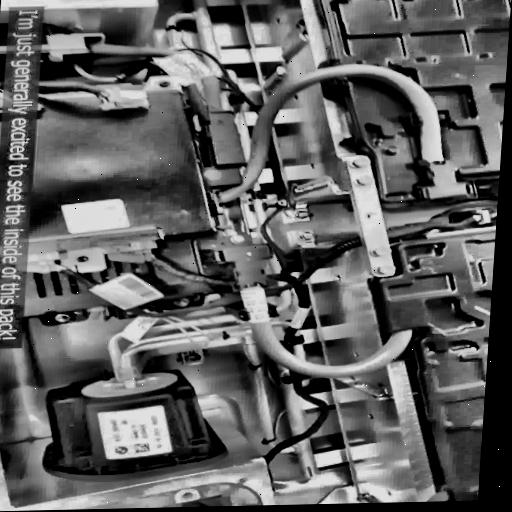high_volt_cable: (209, 59, 457, 207), (223, 263, 419, 382), (84, 39, 231, 113)
low_volt_cable: (39, 31, 486, 473)
nut: (371, 263, 396, 277), (367, 245, 391, 259), (350, 174, 375, 187), (350, 157, 370, 169), (227, 234, 245, 244)
